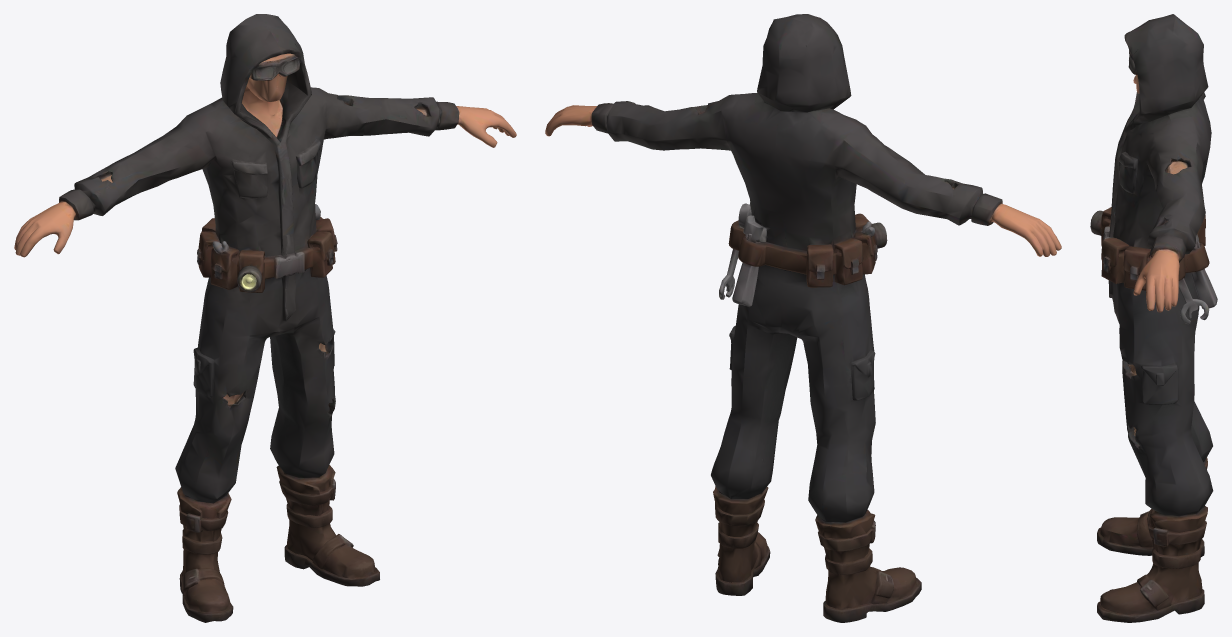
File: char_m_hoodie_idle.glb
The picture shows the model from 3 angles, left to right: view 1: azimuth 30°, elevation 25°; view 2: azimuth 150°, elevation 25°; view 3: azimuth 270°, elevation 25°; orthographic projection. The views are drawn at different scales.
Parts seen in each view (by area): view 1: tripo_node_82276804-9028-4301-acde-7250bdb10d84; view 2: tripo_node_82276804-9028-4301-acde-7250bdb10d84; view 3: tripo_node_82276804-9028-4301-acde-7250bdb10d84.
Part boxes in pixels (box(x1,y1,x2,y2)): tripo_node_82276804-9028-4301-acde-7250bdb10d84: box(14, 14, 516, 622); tripo_node_82276804-9028-4301-acde-7250bdb10d84: box(545, 14, 1061, 622); tripo_node_82276804-9028-4301-acde-7250bdb10d84: box(1090, 14, 1217, 622).
Bounding box in the file's own units: 1.66 × 1.8 × 0.369.
Materials: 1 (1 with a texture image).
